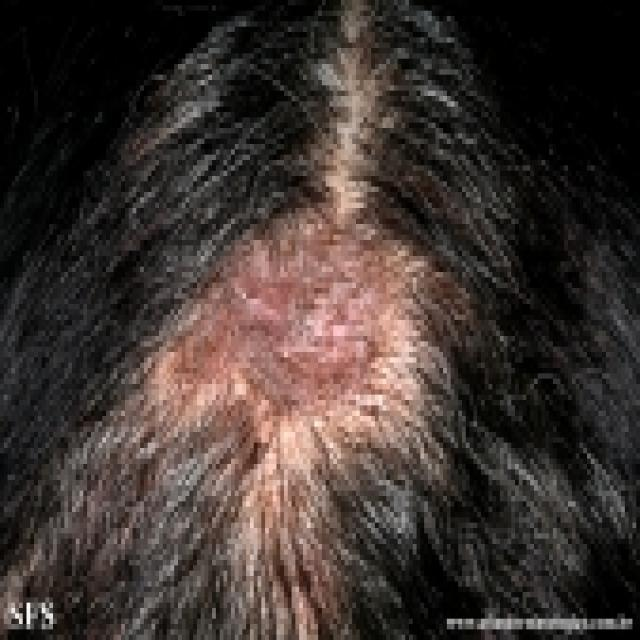lupus: (146, 236, 390, 440)
